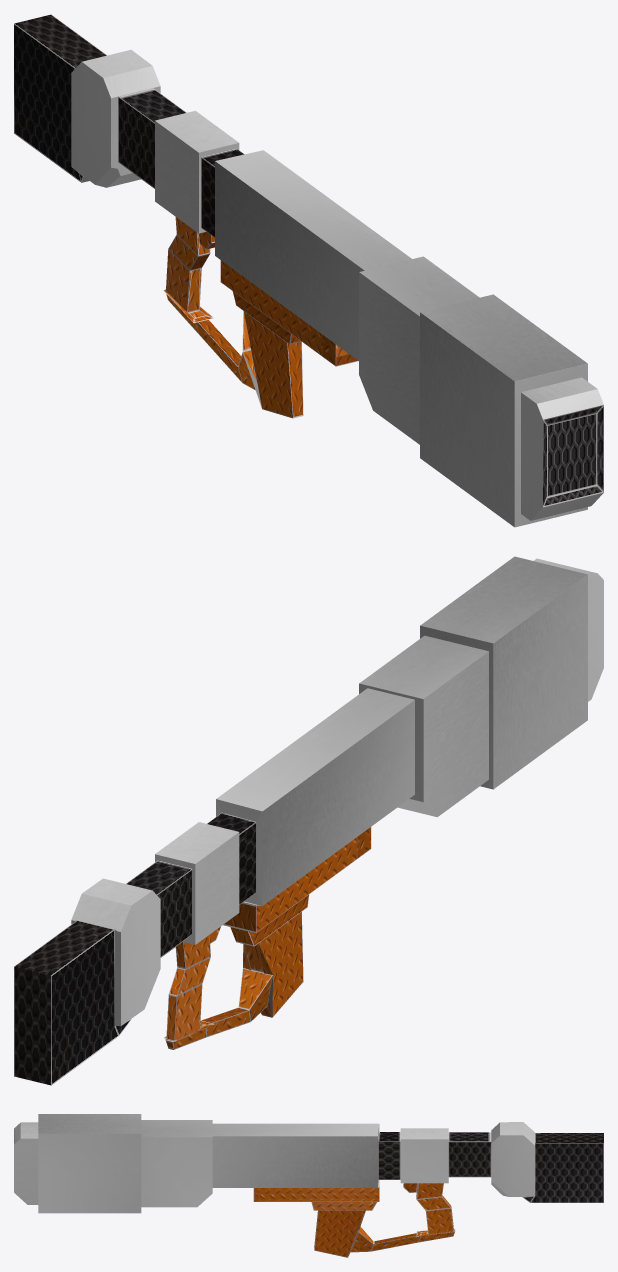
Rendered from machine.fbx.
3 views of the same model, one above another, from view 1: azimuth 30°, elevation 25°; view 2: azimuth 150°, elevation 25°; view 3: azimuth 270°, elevation 25° (orthographic). The views are drawn at different scales.
Visible parts, largest first — view 1: Machine; view 2: Machine; view 3: Machine.
Boxes of the visible parts, bbox=[...] form: Machine: bbox=[14, 14, 603, 527]; Machine: bbox=[14, 556, 603, 1085]; Machine: bbox=[14, 1114, 603, 1257].
Size of the model in its own units: 35.64 by 113 by 456.
